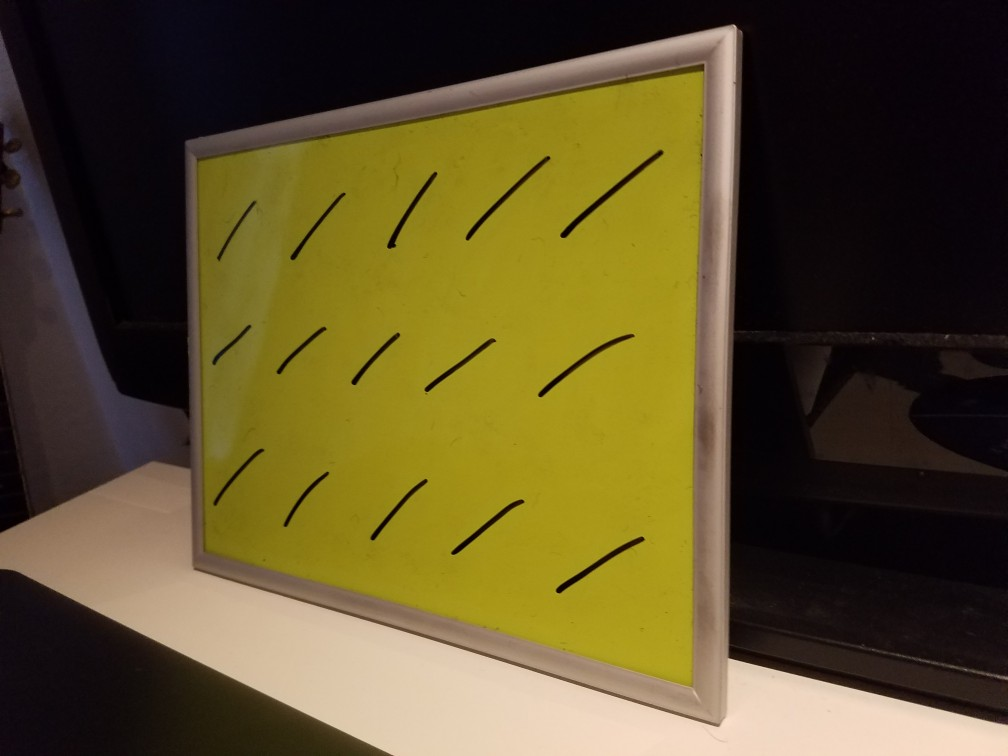/: (558, 141, 670, 262), (548, 511, 652, 624), (533, 321, 641, 411), (442, 480, 534, 580), (462, 157, 554, 256), (359, 464, 438, 557), (381, 169, 453, 262), (421, 327, 501, 406), (274, 460, 344, 544), (269, 317, 338, 391), (209, 435, 269, 520), (285, 186, 346, 266), (347, 324, 409, 393), (212, 197, 258, 273), (209, 312, 256, 382)
